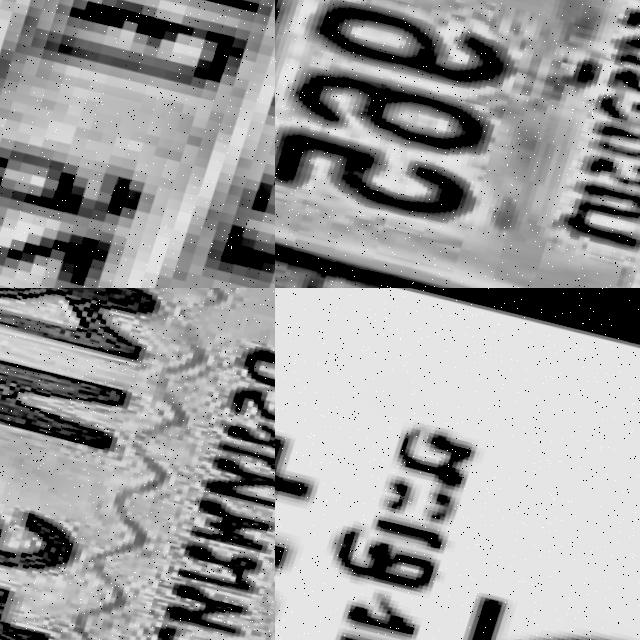license-plate: (275, 288, 640, 640), (275, 0, 640, 288), (0, 288, 275, 640), (0, 0, 275, 288)
